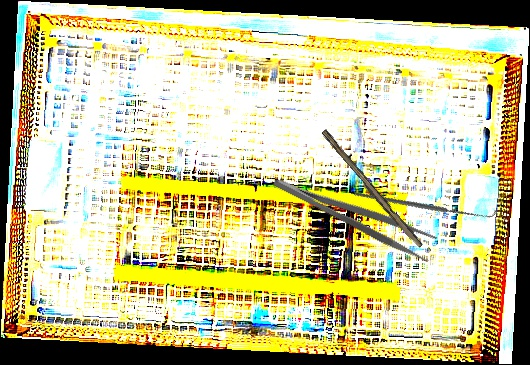Dressing Forceps: (270, 161, 440, 265)
Hook Surgical: (352, 133, 498, 273)
Scalpel Handle: (317, 128, 426, 251)
